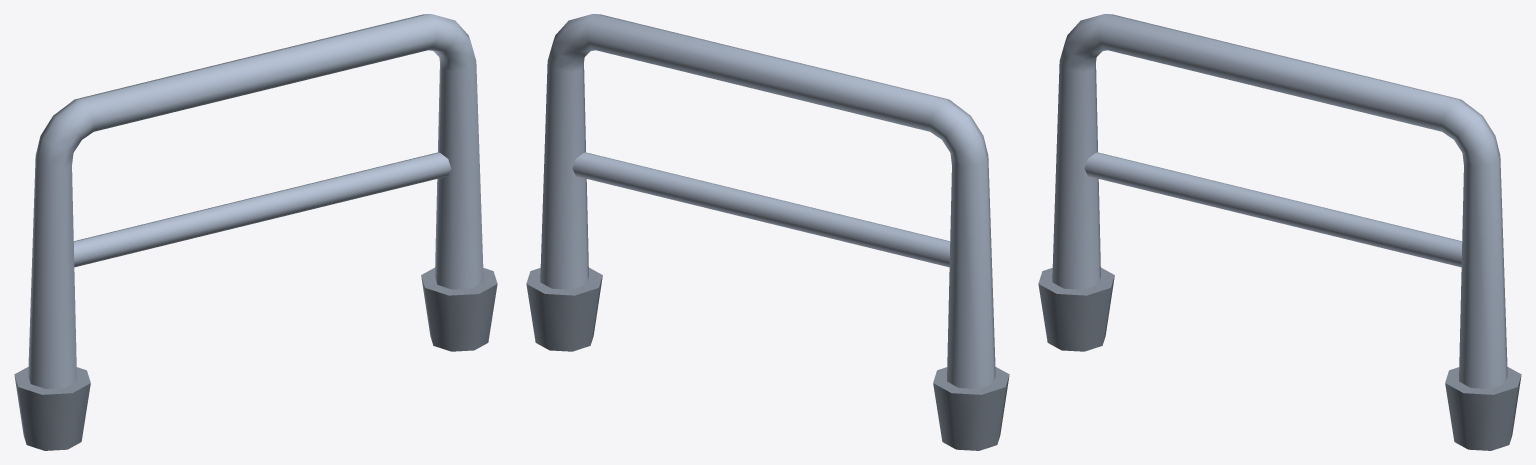
File: Envi3.dae
3 renders of one model, left to right at view 1: azimuth 30°, elevation 25°; view 2: azimuth 150°, elevation 25°; view 3: azimuth 330°, elevation 25°, orthographic.
Parts seen in each view (by area): view 1: NurbsPath.003; view 2: NurbsPath.003; view 3: NurbsPath.003.
Boxes of the visible parts, x1,y1,x2,y2 form: NurbsPath.003: [14, 14, 497, 450]; NurbsPath.003: [526, 14, 1009, 450]; NurbsPath.003: [1038, 14, 1521, 450].
Size of the model in its own units: 0.9022 by 0.1302 by 0.6026.
